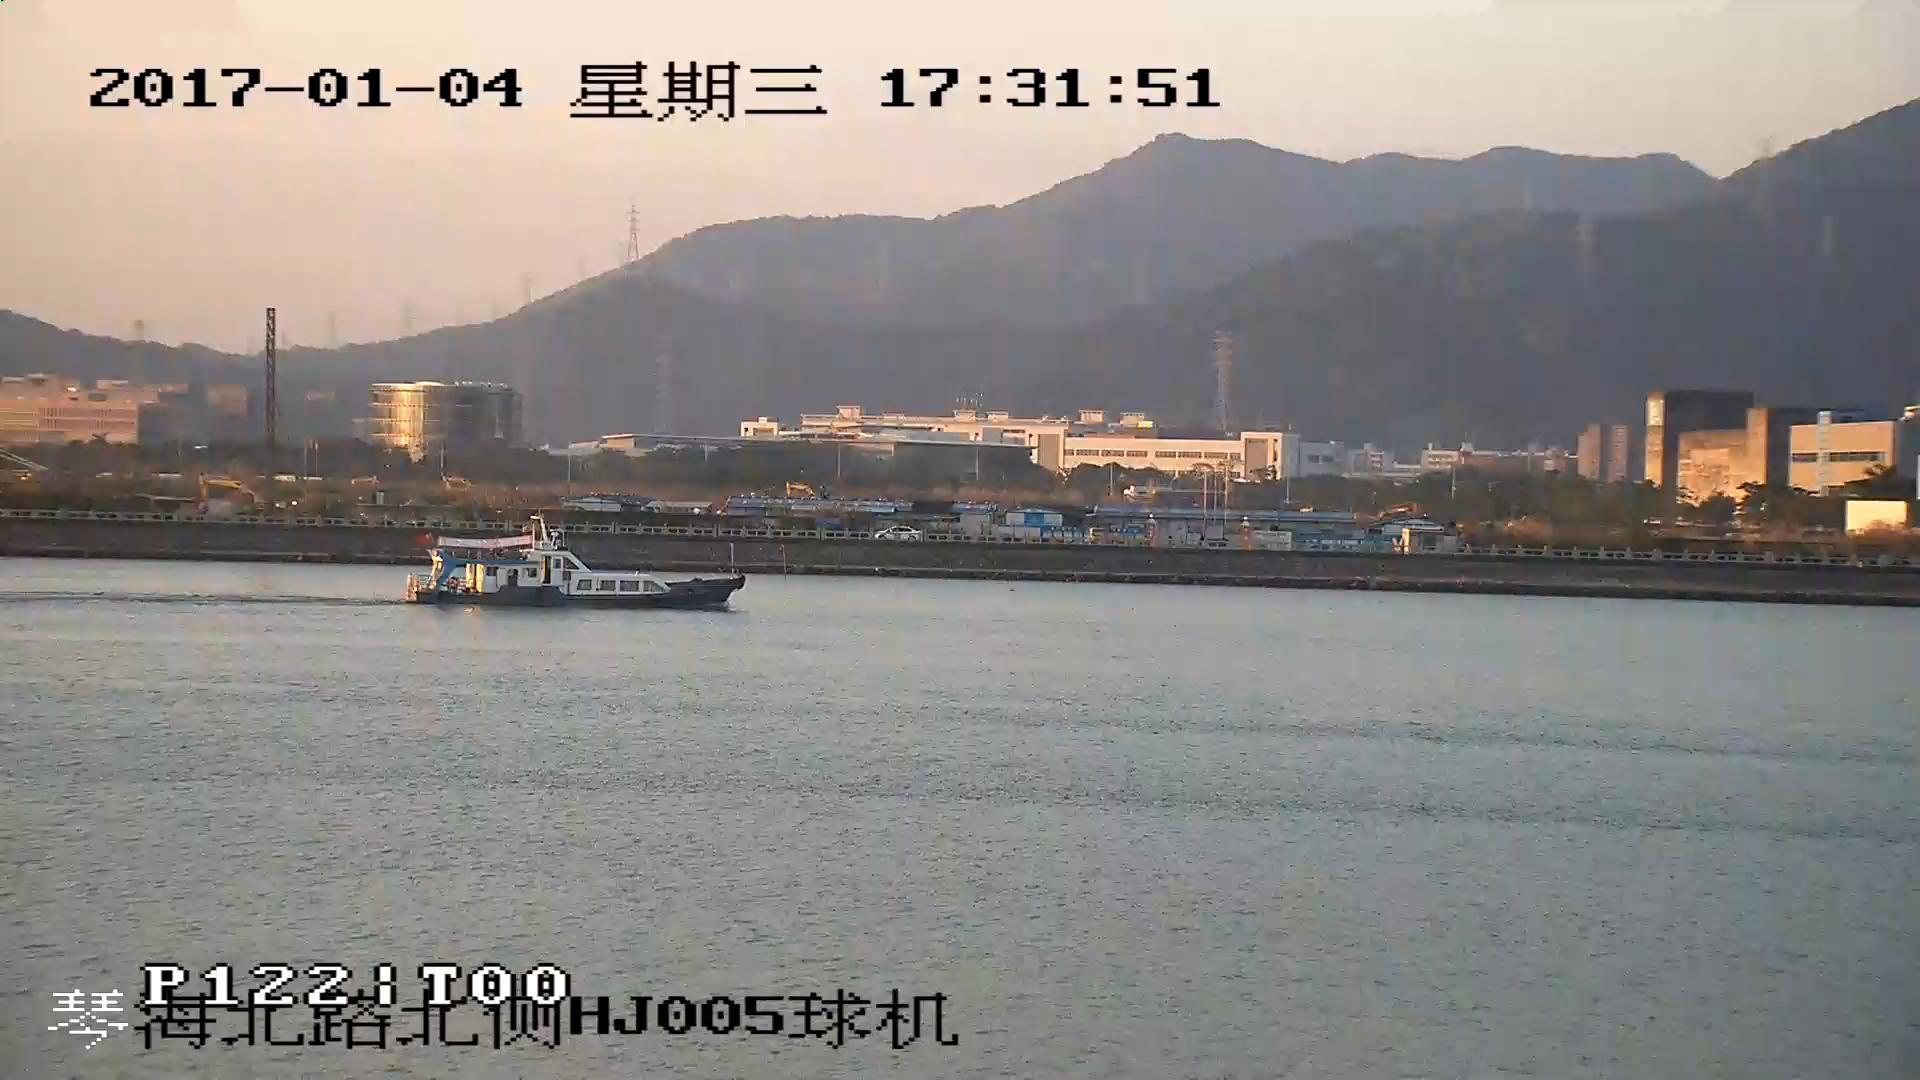fishing boat: (405, 525, 743, 609)
